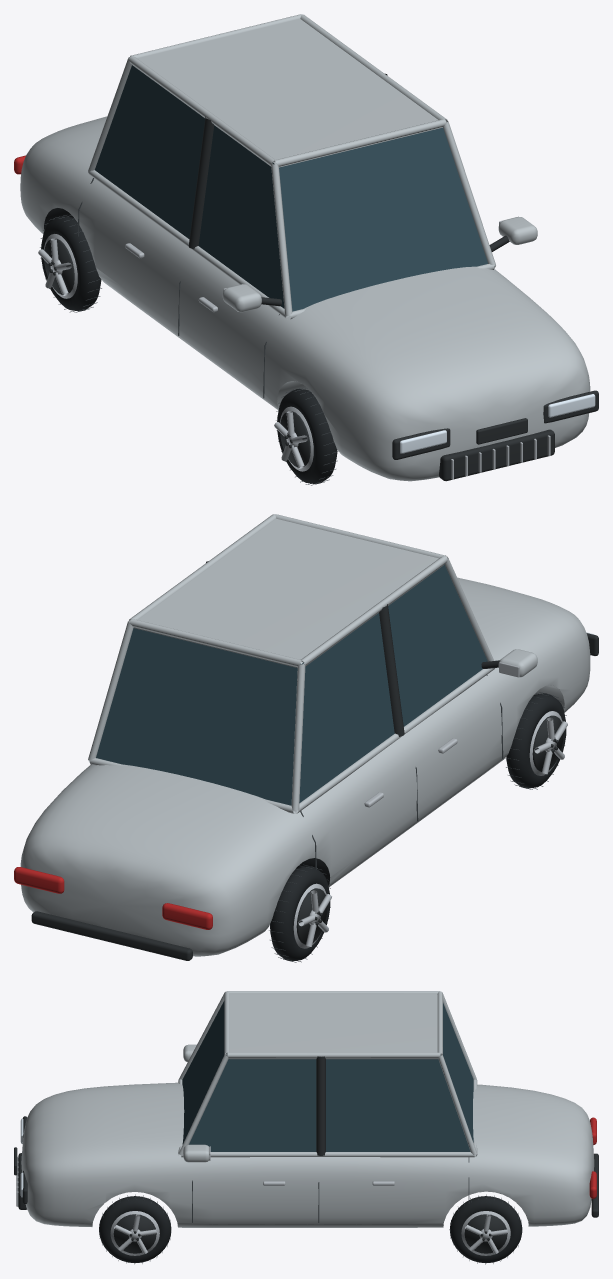
File: vehicle-van-lod0.glb
The picture shows the model from 3 angles, top to bottom: view 1: azimuth 30°, elevation 25°; view 2: azimuth 150°, elevation 25°; view 3: azimuth 270°, elevation 25°; orthographic projection. The views are drawn at different scales.
Visible parts, largest first — view 1: vehicle-van_MATERIAL_BATCH; view 2: vehicle-van_MATERIAL_BATCH; view 3: vehicle-van_MATERIAL_BATCH.
Boxes of the visible parts, box(x1,y1,x2,y2) form: vehicle-van_MATERIAL_BATCH: box(14, 14, 598, 485); vehicle-van_MATERIAL_BATCH: box(14, 514, 598, 962); vehicle-van_MATERIAL_BATCH: box(14, 991, 598, 1264).
Bounding box in the file's own units: 2.32 × 1.97 × 5.24.
